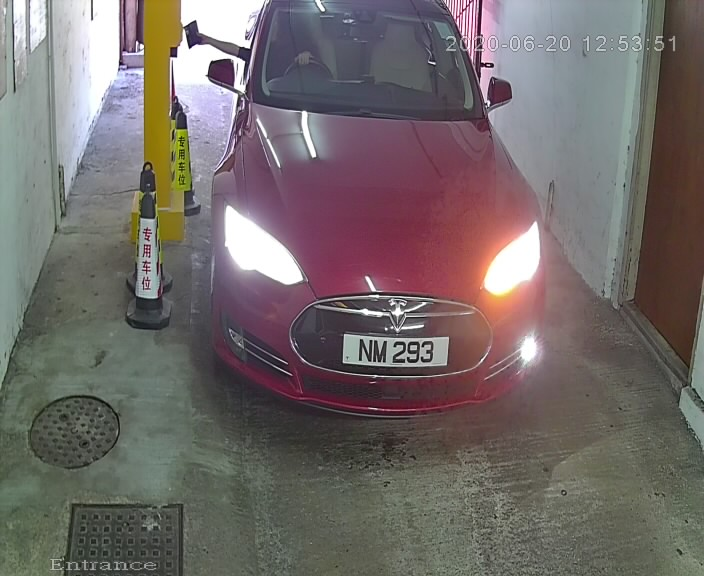privatecar: (199, 3, 564, 452)
